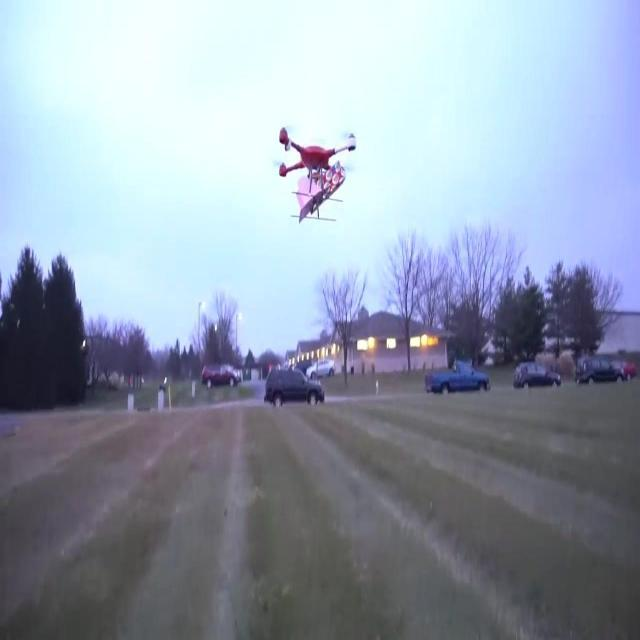drone: (278, 118, 356, 218)
